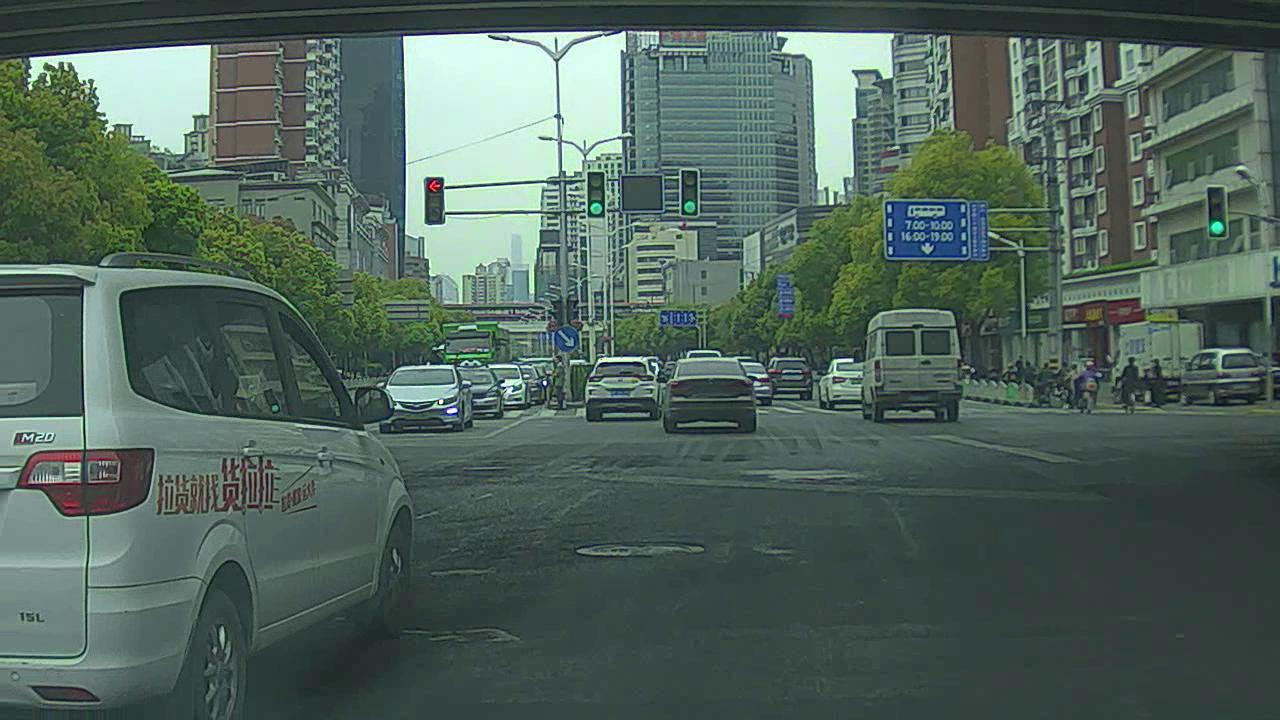traffic_light: (422, 174, 446, 223), (584, 168, 607, 217), (679, 166, 700, 219)
